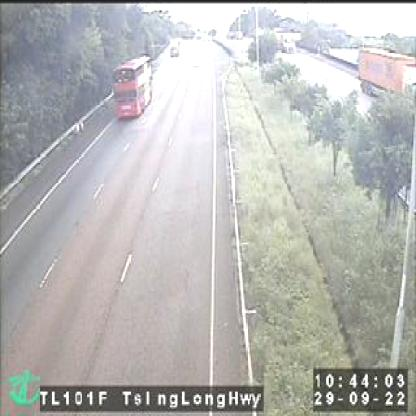Bus: (116, 50, 152, 123)
Car: (168, 33, 180, 55)
